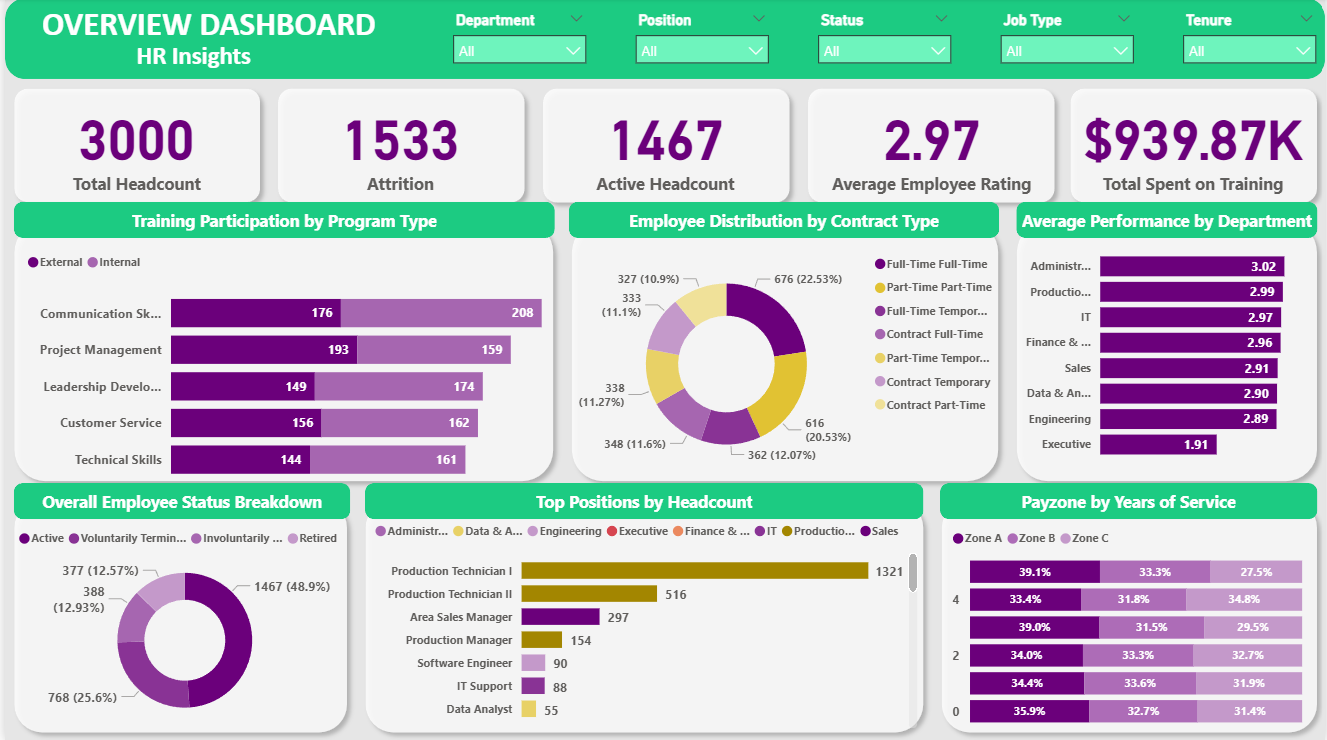

Layout of this report page (visuals, bound fields, positions):
{"tool":"powerbi","page":{"name":"Overview","canvas":[1280,720],"ordinal":0},"visuals":[{"type":"shape","box":[898.2,476.9,381.3,243.3],"z":0},{"type":"shape","box":[539.9,207,430.9,269.9],"z":1000},{"type":"shape","box":[0,476.9,340.1,243.3],"z":2000},{"type":"shape","box":[0,207,539.9,269.9],"z":3000},{"type":"shape","box":[255.4,78.7,256.6,128.3],"z":4000},{"type":"shape","box":[512,78.7,256.6,128.3],"z":5000},{"type":"shape","box":[768.7,78.7,256.6,128.3],"z":6000},{"type":"shape","box":[1022.9,78.7,256.6,128.3],"z":7000},{"type":"shape","box":[0,78.7,256,128],"z":8000},{"type":"shape","box":[0,0,1279.5,78.7],"z":9000},{"type":"card","fields":{"Values":["_Measures.Total Employees"]},"box":[8.5,87.2,238.5,110.2],"z":10000},{"type":"card","fields":{"Values":["_Measures.Active Employees"]},"box":[520.5,87,238.5,110.2],"z":11000},{"type":"card","fields":{"Values":["_Measures.Training Cost"]},"box":[1031.3,87.2,238.5,110.2],"z":12000},{"type":"donutChart","fields":{"Category":["silver Employees.employee_status"],"Y":["_Measures.Total Employees"]},"box":[8.5,504.8,331.7,207],"z":13000},{"type":"donutChart","fields":{"Category":["silver Employees.employment_type","silver Employees.employee_classification_type"],"Y":["_Measures.Total Employees"]},"box":[550.8,240.9,420,227.6],"z":14000},{"type":"shape","box":[970.8,207,308.7,269.9],"z":15000},{"type":"shape","box":[340.1,476.9,558,243.3],"z":16000},{"type":"barChart","fields":{"Category":["silver Employees.title"],"Y":["CountNonNull(silver Employees.employee_id)"],"Series":["silver Employees.department"]},"box":[353.5,497.5,535,214.3],"z":17000},{"type":"clusteredBarChart","fields":{"Category":["silver Employees.department"],"Y":["Avg(silver Employees.current_rating)"]},"box":[970.8,227.6,308.7,230],"z":18000},{"type":"card","fields":{"Values":["_Measures.Quitting Employees"]},"box":[263.9,87,238.5,110.2],"z":19000},{"type":"card","fields":{"Values":["Avg(silver Employees.current_rating)"]},"box":[778.3,87,238.5,110.2],"z":20000},{"type":"hundredPercentStackedBarChart","fields":{"Category":["silver Employees.Tenure (in years)"],"Y":["CountNonNull(silver Employees.employee_id)"],"Series":["silver Employees.payzone"]},"box":[912.7,504.8,348.6,209.4],"z":21000},{"type":"barChart","fields":{"Category":["silver TrainingandDevelopment.training_name"],"Series":["silver TrainingandDevelopment.training_type"],"Y":["CountNonNull(silver TrainingandDevelopment.employee_id)"]},"box":[16.9,237.3,522.9,243.3],"z":22000},{"type":"shape","box":[8.5,197.3,524,35.1],"z":23000},{"type":"shape","box":[545.9,197.3,417,35.1],"z":24000},{"type":"shape","box":[979.3,197.3,291.7,35.1],"z":25000},{"type":"shape","box":[8.5,469.7,326,35.1],"z":26000},{"type":"shape","box":[348.6,469.7,541,35.1],"z":27000},{"type":"shape","box":[905.5,469.7,365.6,35.1],"z":28000},{"type":"textbox","box":[113.8,36.3,138,42.4],"z":29000},{"type":"slicer","fields":{"Values":["silver Employees.department"]},"box":[423.2,7.3,148.9,65.4],"z":30000},{"type":"slicer","fields":{"Values":["silver Employees.title"]},"box":[600,7.3,148.9,65.4],"z":31000},{"type":"slicer","fields":{"Values":["silver Employees.employee_status"]},"box":[776.9,7.3,148.9,65.4],"z":32000},{"type":"slicer","fields":{"Values":["silver Employees.employment_type"]},"box":[953.8,7.3,148.9,65.4],"z":33000},{"type":"slicer","fields":{"Values":["silver Employees.Tenure (in years)"]},"box":[1130.6,7.3,148.9,65.4],"z":34000}]}

Visuals, with their boxes in screenshot pixels (x1, y1, x2, y2), scaled from the page's 1280x720 canvas onto the 1327x740 screenshot:
shape: 931 490 1326 739
shape: 560 213 1006 490
shape: 0 490 353 739
shape: 0 213 560 490
shape: 265 81 531 213
shape: 531 81 797 213
shape: 797 81 1063 213
shape: 1060 81 1326 213
shape: 0 81 265 212
shape: 0 0 1326 81
card - _Measures.Total Employees: 9 90 256 203
card - _Measures.Active Employees: 540 89 787 203
card - _Measures.Training Cost: 1069 90 1316 203
donutChart - silver Employees.employee_status x _Measures.Total Employees: 9 519 353 732
donutChart - silver Employees.employment_type x silver Employees.employee_classification_type: 571 248 1006 482
shape: 1006 213 1326 490
shape: 353 490 931 739
barChart - silver Employees.title x CountNonNull(silver Employees.employee_id): 366 511 921 732
clusteredBarChart - silver Employees.department x Avg(silver Employees.current_rating): 1006 234 1326 470
card - _Measures.Quitting Employees: 274 89 521 203
card - Avg(silver Employees.current_rating): 807 89 1054 203
hundredPercentStackedBarChart - silver Employees.Tenure (in years) x CountNonNull(silver Employees.employee_id): 946 519 1308 734
barChart - silver TrainingandDevelopment.training_name x silver TrainingandDevelopment.training_type: 18 244 560 494
shape: 9 203 552 239
shape: 566 203 998 239
shape: 1015 203 1318 239
shape: 9 483 347 519
shape: 361 483 922 519
shape: 939 483 1318 519
textbox: 118 37 261 81
slicer - silver Employees.department: 439 8 593 75
slicer - silver Employees.title: 622 8 776 75
slicer - silver Employees.employee_status: 805 8 960 75
slicer - silver Employees.employment_type: 989 8 1143 75
slicer - silver Employees.Tenure (in years): 1172 8 1326 75
